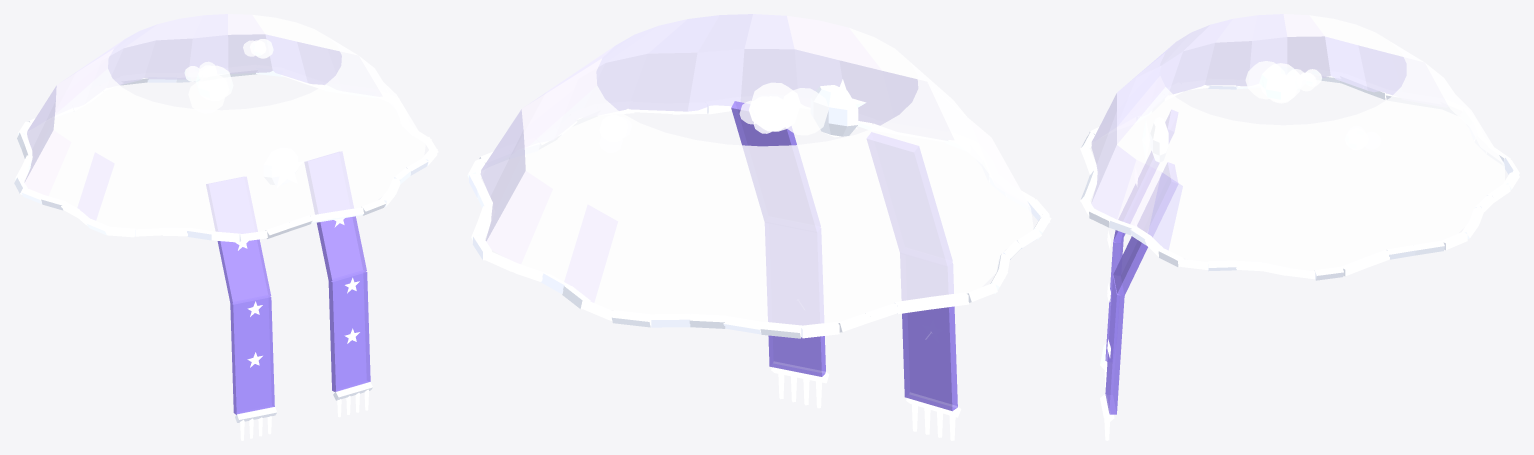
The model's file is honored_dead_robe.glb.
3 renders of one model, left to right at view 1: azimuth 30°, elevation 25°; view 2: azimuth 150°, elevation 25°; view 3: azimuth 270°, elevation 25°, orthographic. The views are drawn at different scales.
Parts seen in each view (by area): view 1: honored_dead_robe; view 2: honored_dead_robe; view 3: honored_dead_robe.
Boxes of the visible parts, box(x1,y1,x2,y2) form: honored_dead_robe: box(14, 14, 438, 440); honored_dead_robe: box(467, 14, 1051, 440); honored_dead_robe: box(1080, 14, 1519, 440).
Size of the model in its own units: 1.25 by 0.96 by 1.14.
